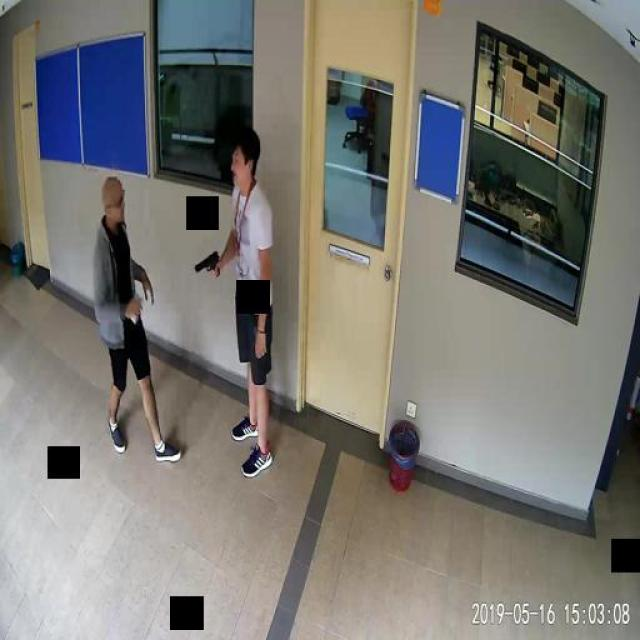gun: (194, 248, 218, 278)
